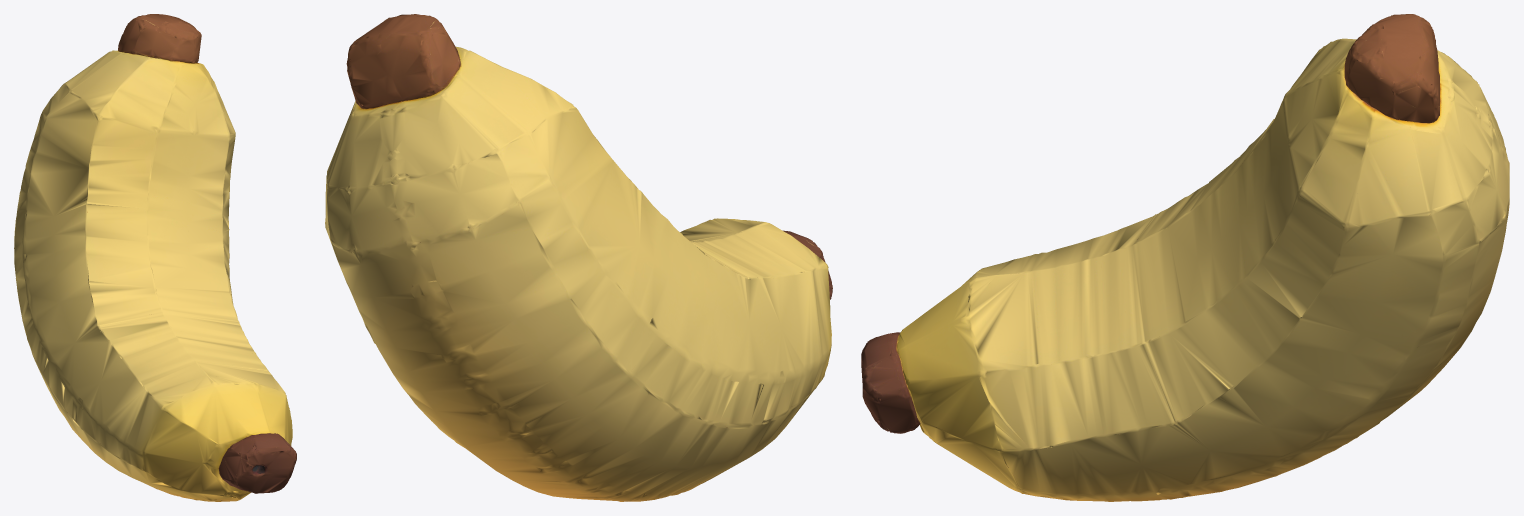
The picture shows the model from 3 angles, left to right: view 1: azimuth 30°, elevation 25°; view 2: azimuth 150°, elevation 25°; view 3: azimuth 270°, elevation 25°; orthographic projection. The views are drawn at different scales.
Parts seen in each view (by area): view 1: tripo_node_480b52ca-158a-4cf3-8b8b-cfe73345b940; view 2: tripo_node_480b52ca-158a-4cf3-8b8b-cfe73345b940; view 3: tripo_node_480b52ca-158a-4cf3-8b8b-cfe73345b940.
Part boxes in pixels (left/top/right/bottom): tripo_node_480b52ca-158a-4cf3-8b8b-cfe73345b940: left=14, top=14, right=296, bottom=501; tripo_node_480b52ca-158a-4cf3-8b8b-cfe73345b940: left=325, top=14, right=832, bottom=501; tripo_node_480b52ca-158a-4cf3-8b8b-cfe73345b940: left=861, top=14, right=1509, bottom=501.
Bounding box in the file's own units: 0.5684 × 0.8809 × 0.998.
1 material, 1 textured.
